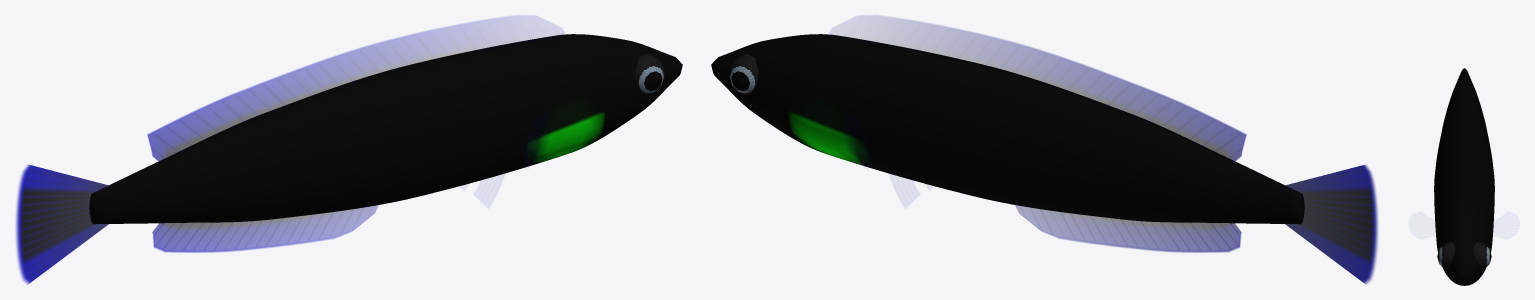
Rendered from wrasse.glb.
3 renders of one model, left to right at view 1: azimuth 30°, elevation 25°; view 2: azimuth 150°, elevation 25°; view 3: azimuth 270°, elevation 25°, orthographic. The views are drawn at different scales.
Visible parts, largest first — view 1: Body, FinDorsal, FinCaudal, FinAnal, EyeR; view 2: Body, FinDorsal, FinCaudal, FinAnal, EyeL; view 3: Body, EyeL, EyeR.
Part boxes in pixels (box(x1,y1,x2,y2)): Body: box(90, 34, 682, 224); FinDorsal: box(147, 16, 552, 161); FinCaudal: box(16, 165, 109, 284); FinAnal: box(152, 205, 378, 252); EyeR: box(635, 54, 665, 94); Body: box(711, 34, 1303, 224); FinDorsal: box(841, 16, 1246, 161); FinCaudal: box(1284, 165, 1377, 284); FinAnal: box(1015, 205, 1241, 252); EyeL: box(728, 54, 758, 94); Body: box(1434, 68, 1494, 285); EyeL: box(1473, 242, 1491, 269); EyeR: box(1437, 242, 1455, 269).
Size of the model in its own units: 1 by 0.2683 by 0.2107.
4 materials, 3 textured.
